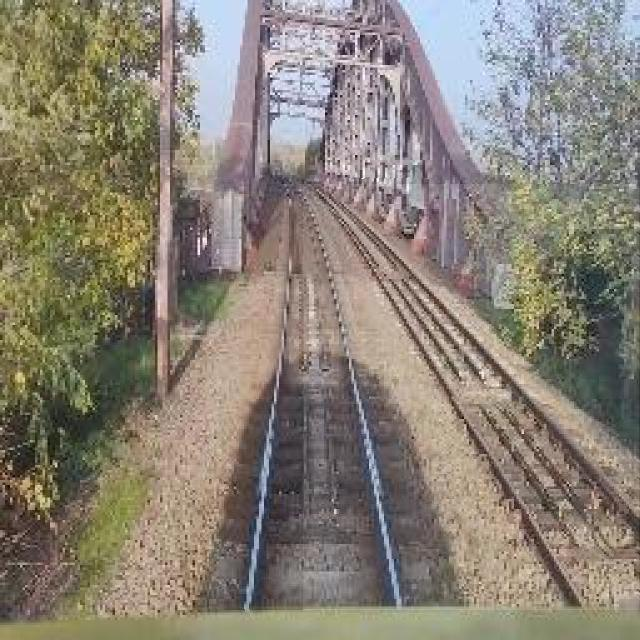rail: (305, 185, 640, 611), (208, 180, 438, 610)
